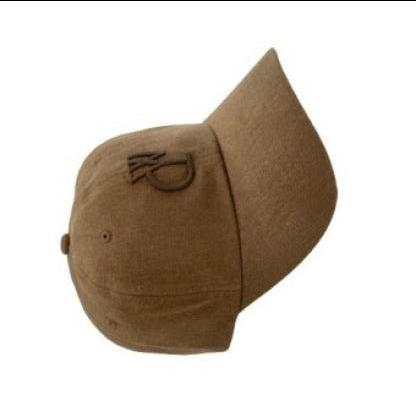cap: (48, 27, 346, 382)
